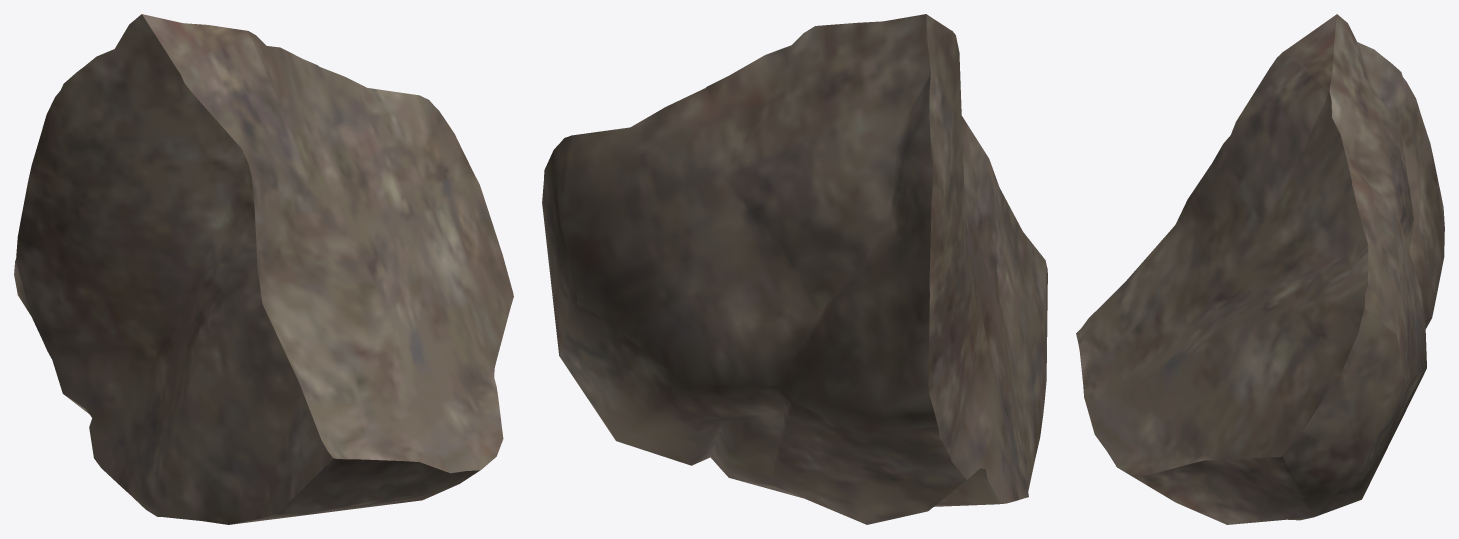
The model's file is Shinobu_Spl_Rock3.fbx.
The picture shows the model from 3 angles, left to right: view 1: azimuth 30°, elevation 25°; view 2: azimuth 150°, elevation 25°; view 3: azimuth 270°, elevation 25°; orthographic projection. The views are drawn at different scales.
Parts seen in each view (by area): view 1: SM_d_e_P0011_V00_C00_SplTwm_Rock_04; view 2: SM_d_e_P0011_V00_C00_SplTwm_Rock_04; view 3: SM_d_e_P0011_V00_C00_SplTwm_Rock_04.
Boxes of the visible parts, box(x1,y1,x2,y2) form: SM_d_e_P0011_V00_C00_SplTwm_Rock_04: box(14, 14, 513, 524); SM_d_e_P0011_V00_C00_SplTwm_Rock_04: box(542, 14, 1047, 524); SM_d_e_P0011_V00_C00_SplTwm_Rock_04: box(1076, 14, 1444, 524).
Size of the model in its own units: 76.87 by 87.33 by 68.81.
